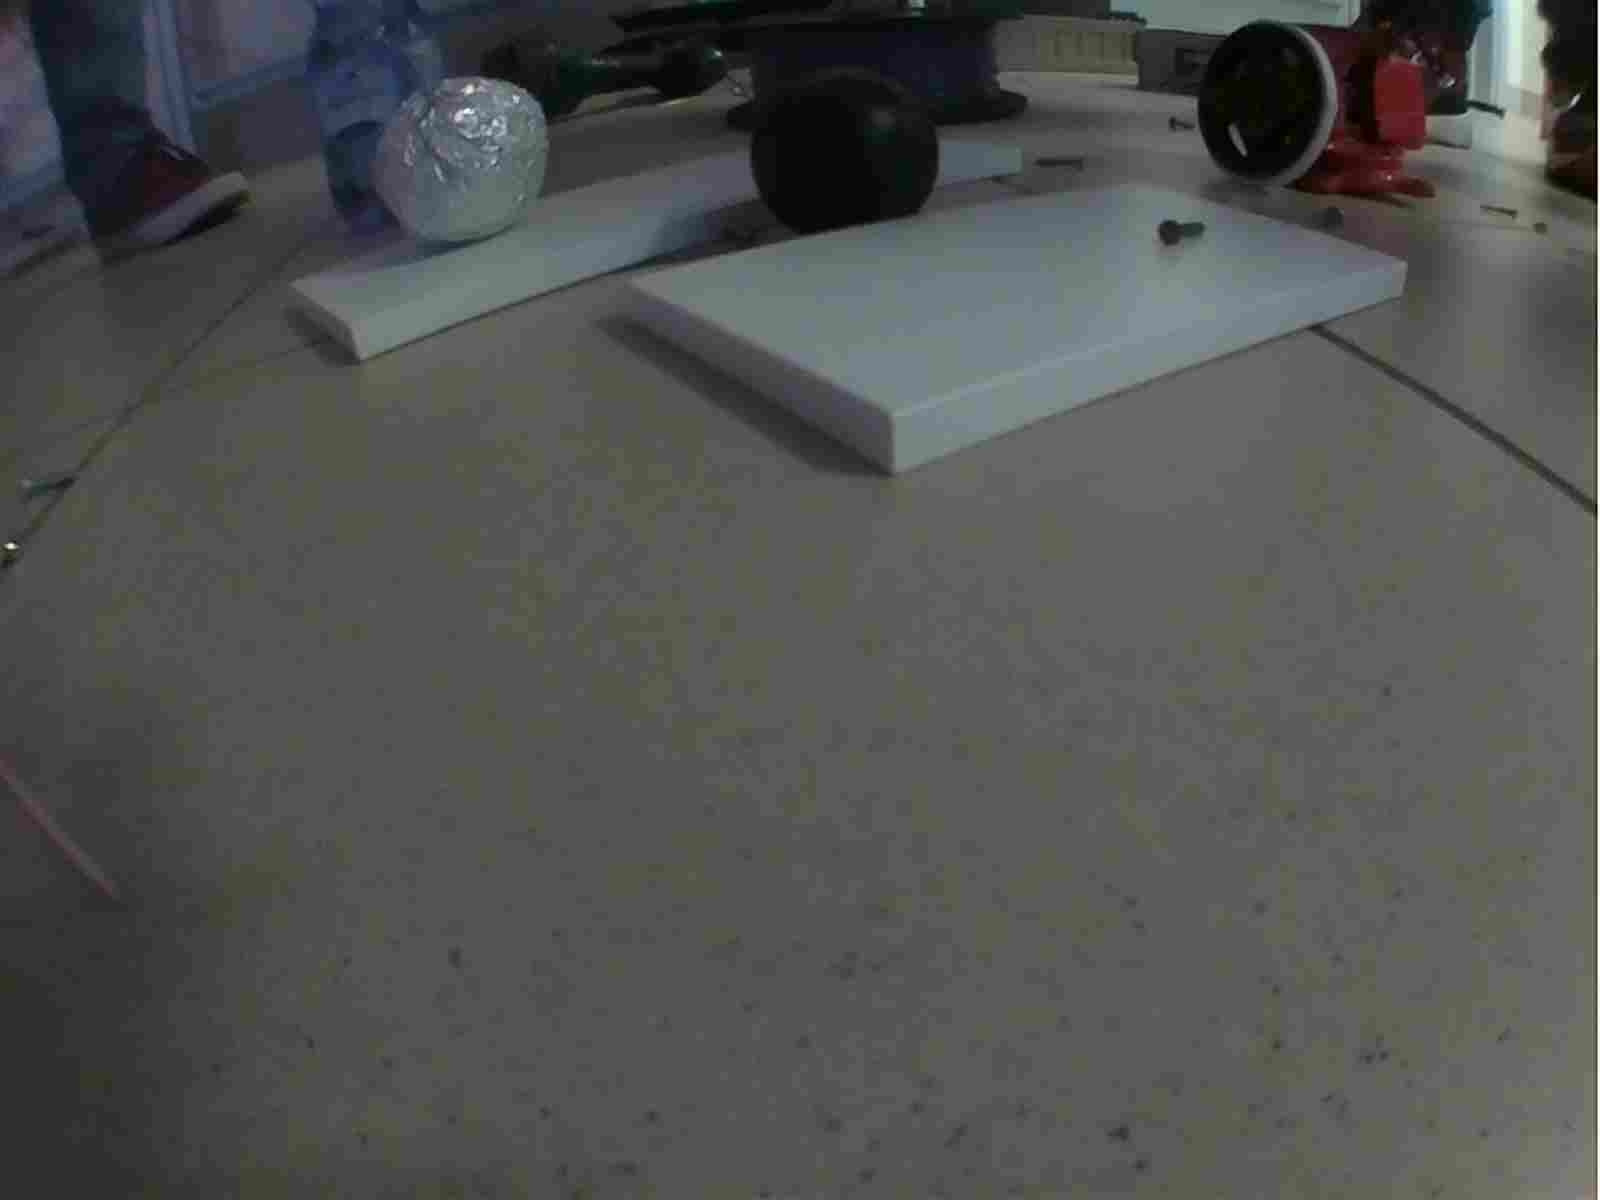bianca: (367, 76, 553, 246)
